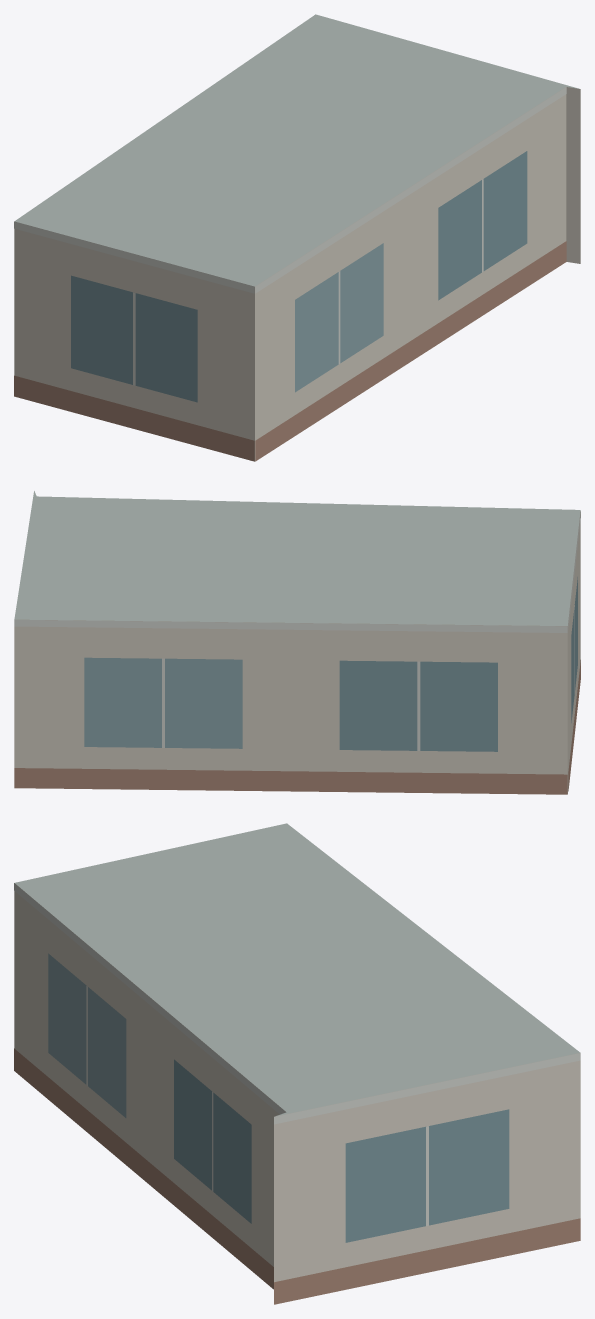
File: survey-upis-32977245.glb
3 renders of one model, top to bottom at view 1: azimuth 30°, elevation 25°; view 2: azimuth 150°, elevation 25°; view 3: azimuth 270°, elevation 25°, orthographic. The views are drawn at different scales.
Visible parts, largest first — view 1: survey-upis-32977245.tmp; view 2: survey-upis-32977245.tmp; view 3: survey-upis-32977245.tmp.
Boxes of the visible parts, x1,y1,x2,y2 form: survey-upis-32977245.tmp: (14, 14, 580, 461); survey-upis-32977245.tmp: (14, 491, 580, 794); survey-upis-32977245.tmp: (14, 823, 580, 1304).
Bounding box in the file's own units: 10.23 × 3.05 × 8.35.
